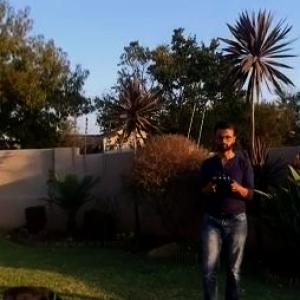follow: (193, 114, 258, 299)
null: (1, 274, 78, 299)
